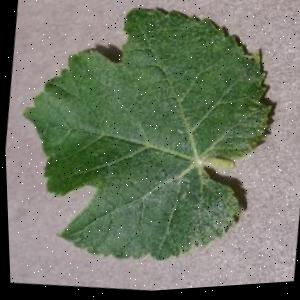Folha: (0, 0, 289, 284)
